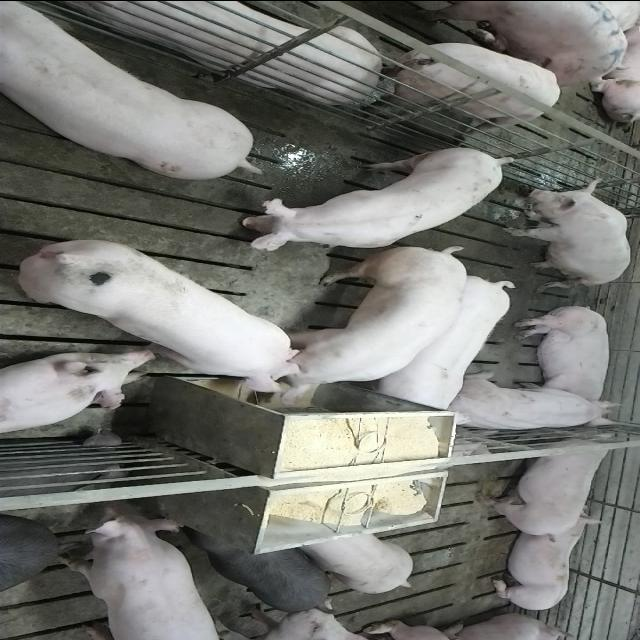Feeding: (16, 236, 306, 400), (256, 247, 472, 412)
Lateral_lying: (512, 302, 622, 422)
Sitting: (502, 174, 634, 287)
Standing: (0, 0, 256, 176), (228, 144, 512, 248), (58, 508, 228, 639), (373, 273, 518, 412), (362, 34, 566, 132), (414, 0, 640, 84), (474, 432, 617, 538), (193, 534, 334, 613), (301, 531, 414, 593), (3, 516, 69, 598)
Sternal_lying: (41, 0, 386, 100), (0, 348, 156, 436), (486, 516, 604, 612)
